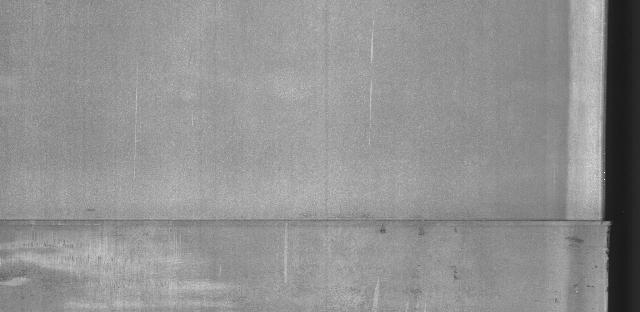welding_line: (1, 205, 622, 238)
